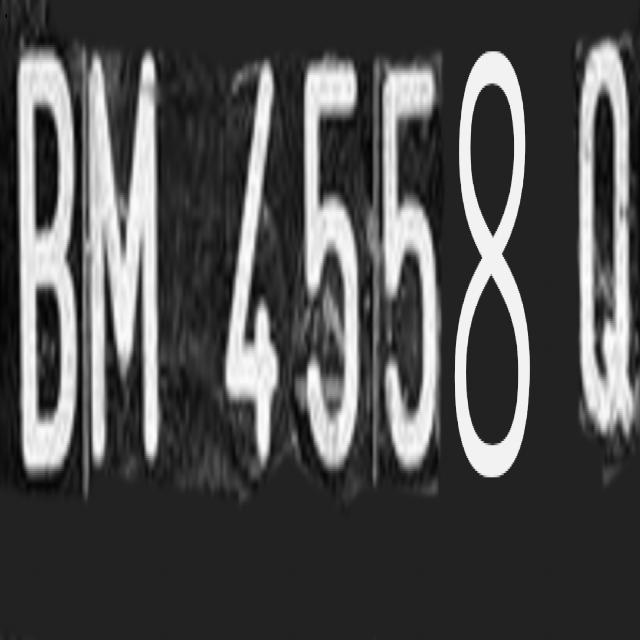4: (218, 53, 292, 482)
5: (373, 58, 443, 472), (300, 58, 364, 486)
8: (453, 40, 531, 484)
B: (12, 41, 84, 482)
M: (77, 48, 182, 457)
Q: (553, 33, 640, 452)
